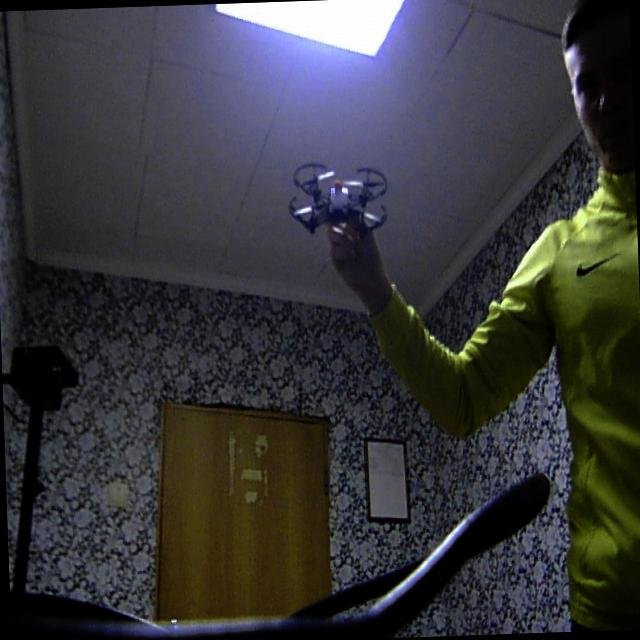drone: (275, 144, 405, 242)
